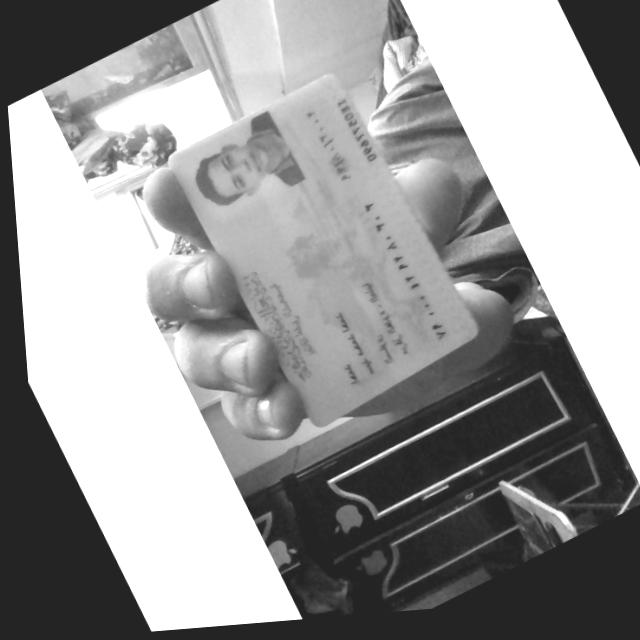front: (168, 74, 476, 425)
